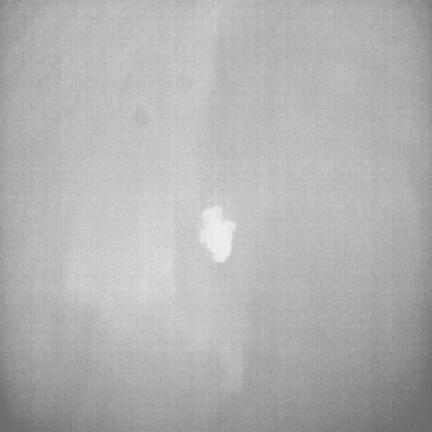flukeprints: (199, 206, 236, 262)
